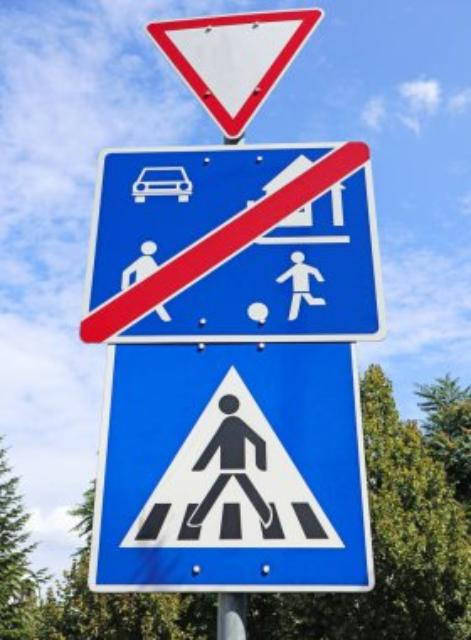crosswalk-sign: (88, 343, 377, 593)
